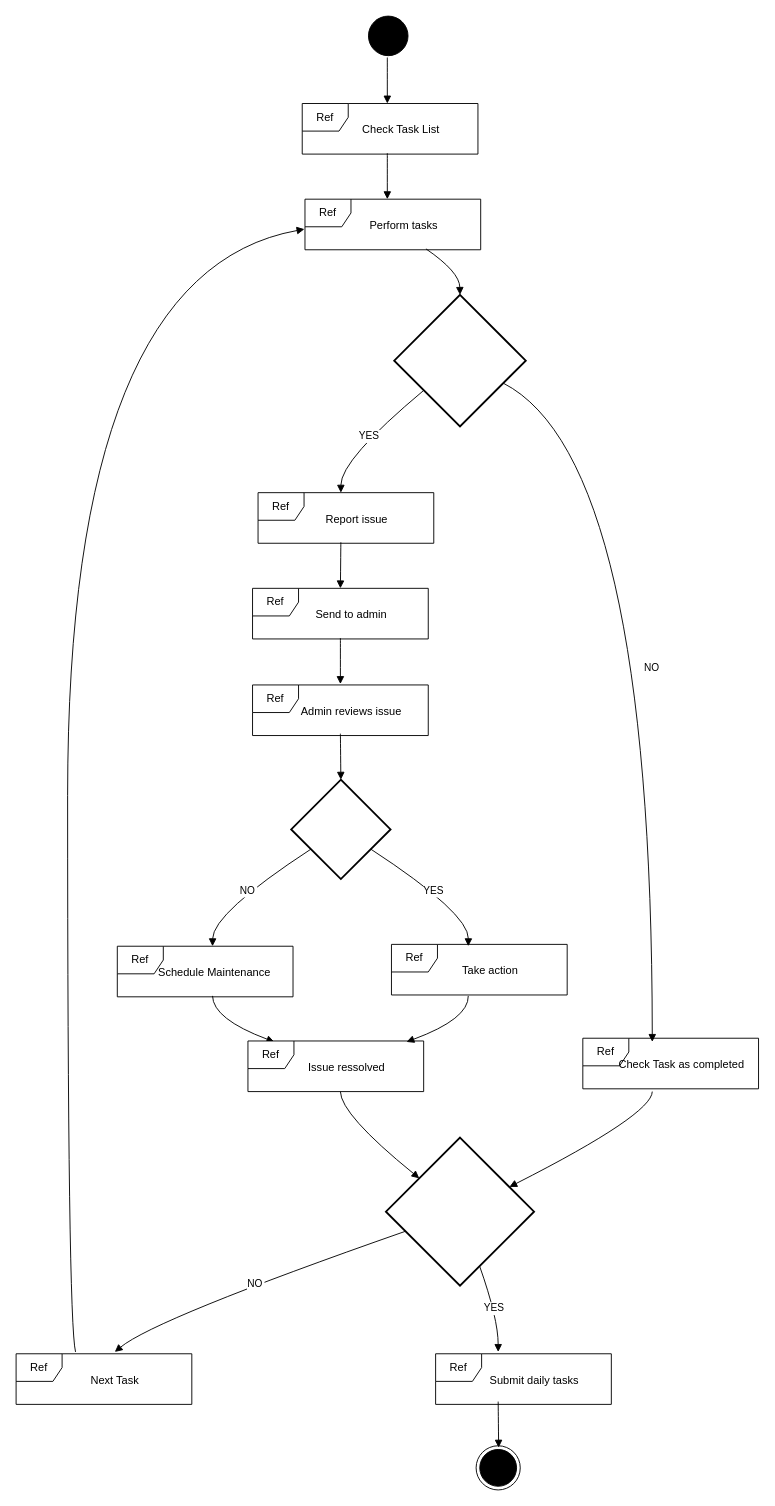
Some shapes in this 775 by 1506 pixel diagram are drawn without their labels. The shapes that lost their labels are listed below. From the top down, each one's box as (x1, y1, x2, y2) in pixels, then its label:
(393, 293, 526, 427): Issue Found?
(290, 778, 391, 880): Urgent?
(385, 1136, 535, 1286): All Tasks Done?
